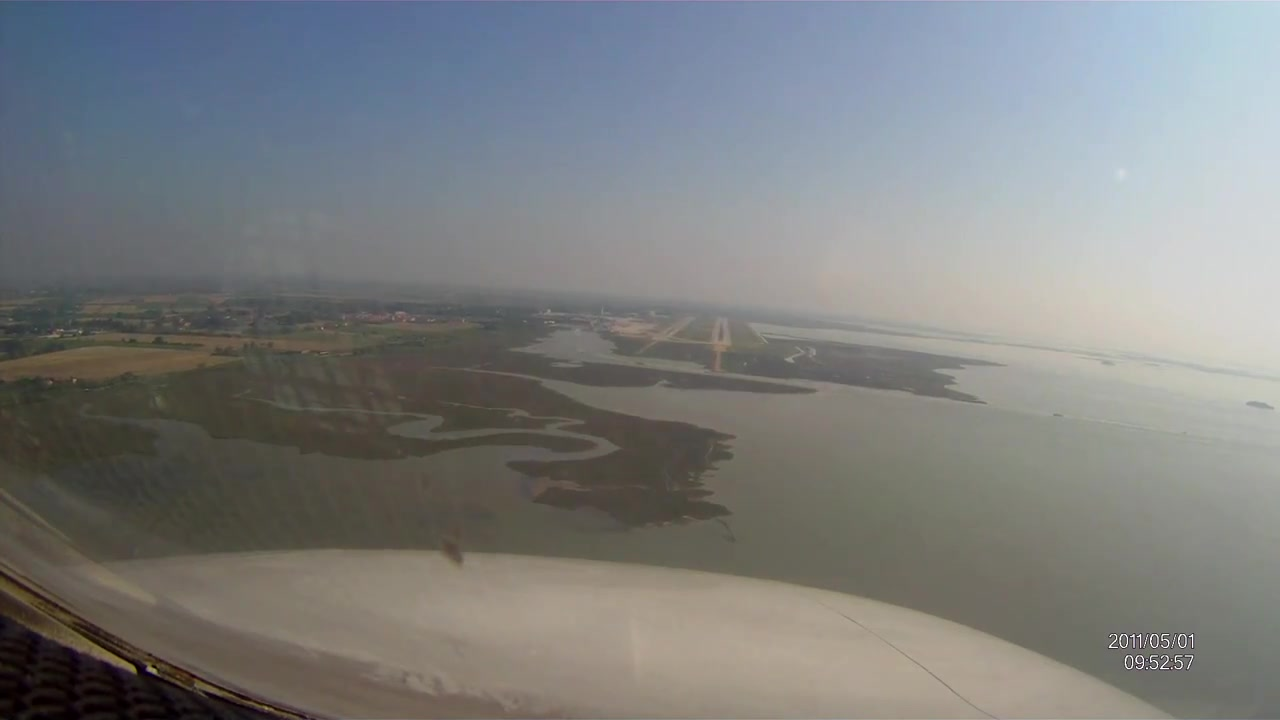runway: (655, 313, 700, 338), (709, 315, 732, 346)
